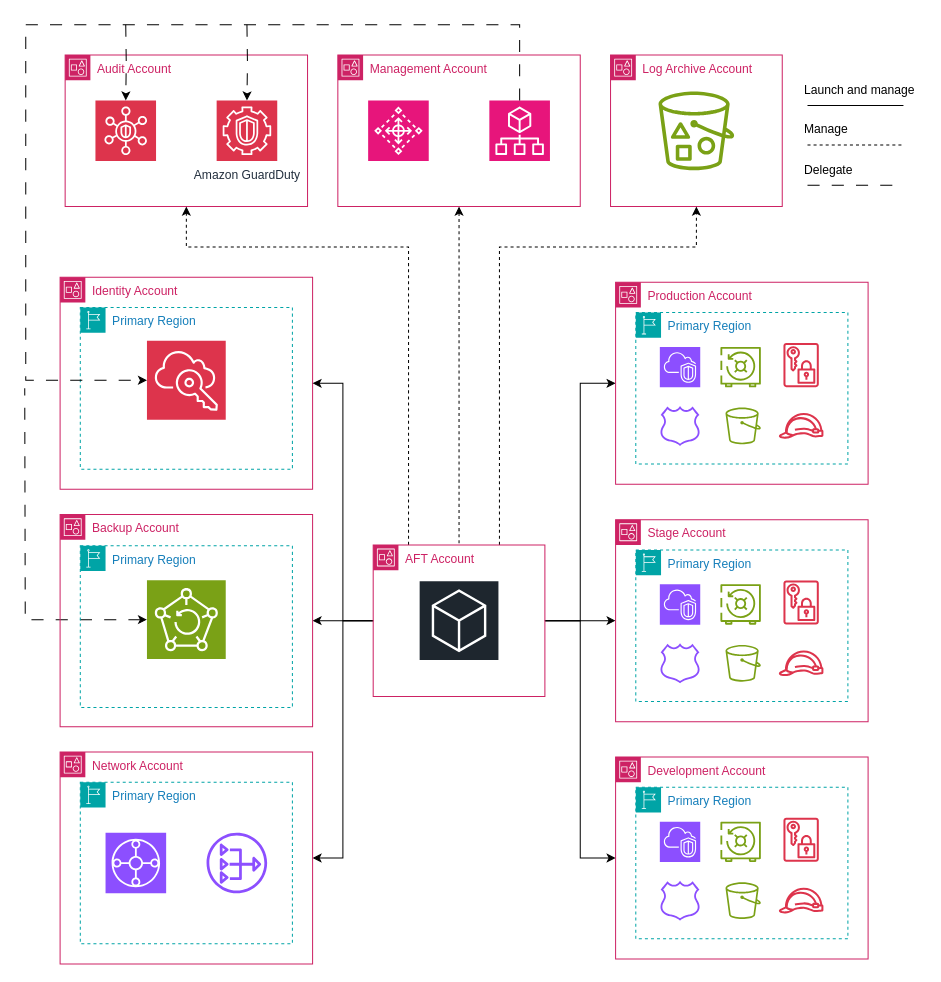
The diagram is 941 pixels wide and 982 high, and some of its shapes have lost their labels. The centre of each missing label's shape, as x and y in pixels:
Account Factory for Terraform: (x=458, y=620)
AWS Backup (centralized backup): (x=186, y=619)
AWS Control Tower: (x=398, y=130)
AWS IAM Identity Center (identity management): (x=186, y=380)
AWS Organizations: (x=519, y=130)
AWS Security Hub: (x=125, y=130)
Logs: (x=696, y=130)
NAT Gateway (centralized egress): (x=236, y=862)
Transit Gateway (network routing): (x=135, y=862)
